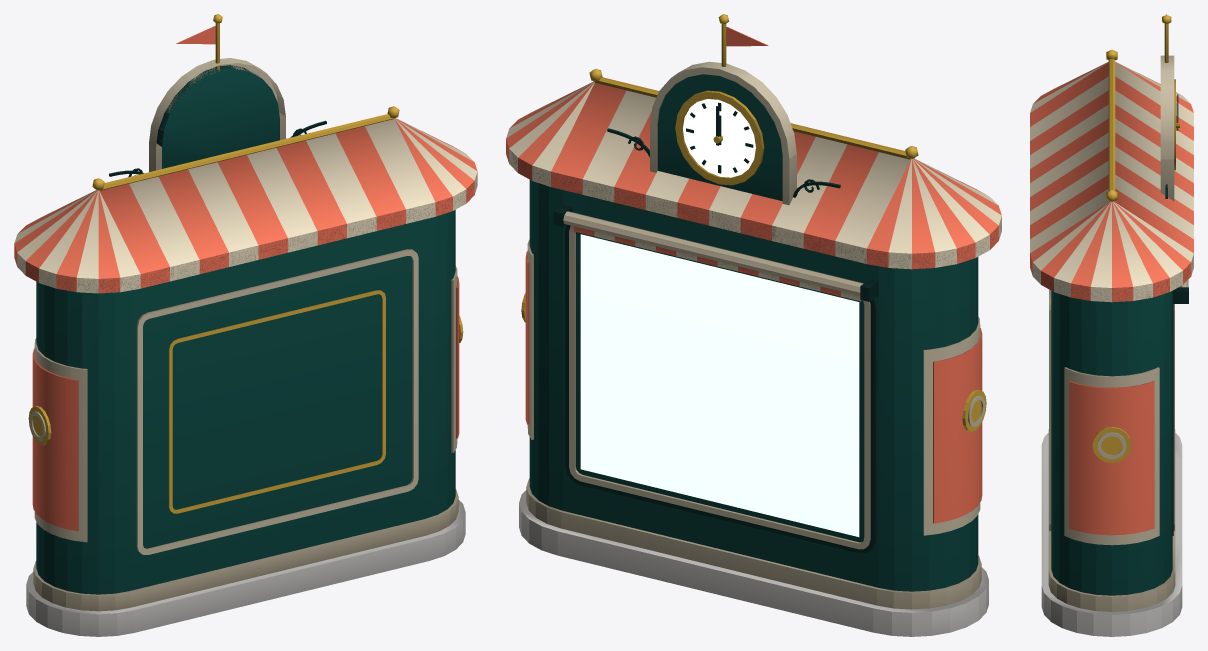
3 views of the same model, side by side, from view 1: azimuth 30°, elevation 25°; view 2: azimuth 150°, elevation 25°; view 3: azimuth 270°, elevation 25° (orthographic). The views are drawn at different scales.
Visible parts, largest first — view 1: static_online; view 2: static_online, live_board_online; view 3: static_online.
Boxes of the visible parts, bbox=[...] form: static_online: bbox=[14, 14, 477, 636]; static_online: bbox=[506, 14, 1001, 636]; live_board_online: bbox=[580, 234, 859, 536]; static_online: bbox=[1030, 14, 1193, 636].
Size of the model in its own units: 5.08 by 5.91 by 1.68.
